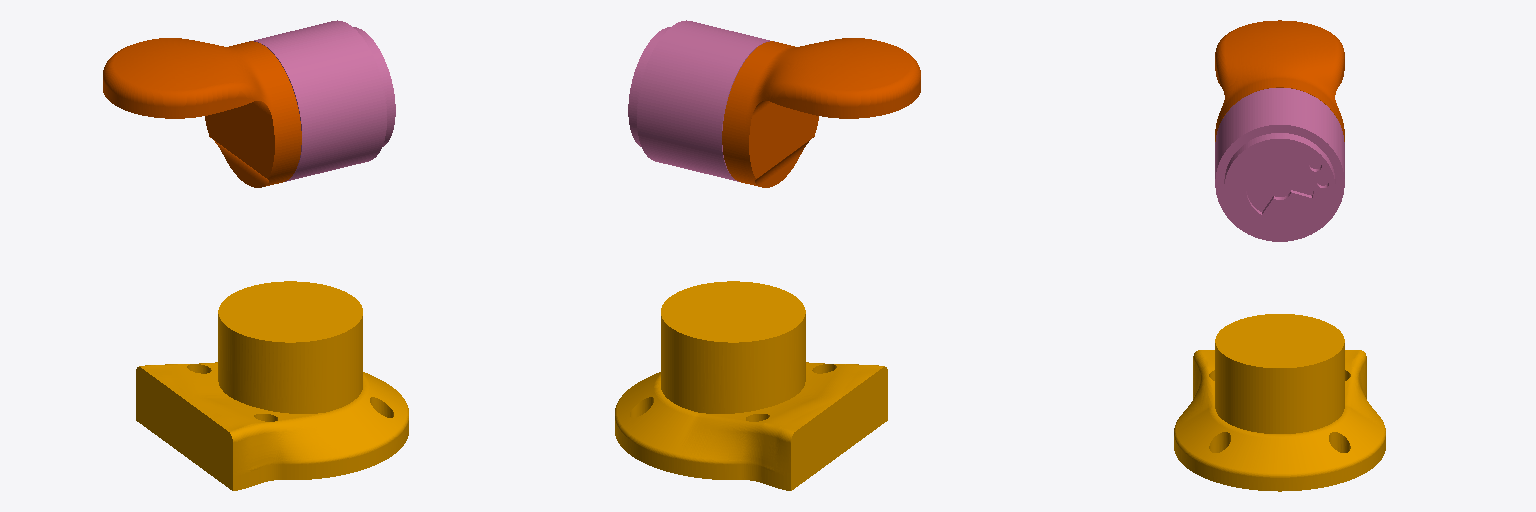
The robot description file, URDF, robot "z1":
<?xml version="1.0" encoding="UTF-8"?>
<robot name="z1">
  <joint name="joint1" type="revolute">
    <origin xyz="0. 0. 0.0585" rpy="0. -1.5707964 0. "/>
    <parent link="link00"/>
    <child link="link01"/>
    <axis xyz="1. 0. 0."/>
    <limit lower="-2.6179936" upper="2.6179936" effort="30." velocity="3.1415"/>
  </joint>
  <joint name="joint2" type="revolute">
    <origin xyz="0.045 0. 0. " rpy="1.5707964 0. 1.5707964"/>
    <parent link="link01"/>
    <child link="link02"/>
    <axis xyz="1. 0. 0."/>
    <limit lower="0." upper="2.9670595" effort="60." velocity="3.1415"/>
  </joint>
  <joint name="joint3" type="revolute">
    <origin xyz="0. 0.35 0. " rpy="0. 0. 0."/>
    <parent link="link02"/>
    <child link="link03"/>
    <axis xyz="1. 0. 0."/>
    <limit lower="-2.879793" upper="0." effort="30." velocity="3.1415"/>
  </joint>
  <joint name="joint4" type="revolute">
    <origin xyz="0. -0.218 0.057" rpy="0. 0. 0."/>
    <parent link="link03"/>
    <child link="link04"/>
    <axis xyz="1. 0. 0."/>
    <limit lower="-1.5184363" upper="1.5184363" effort="30." velocity="3.1415"/>
  </joint>
  <joint name="joint5" type="revolute">
    <origin xyz="0. -0.07 0. " rpy="-1.5707964 -1.5707964 0. "/>
    <parent link="link04"/>
    <child link="link05"/>
    <axis xyz="1. 0. 0."/>
    <limit lower="-1.3439035" upper="1.3439035" effort="30." velocity="3.1415"/>
  </joint>
  <joint name="joint6" type="revolute">
    <origin xyz="0. 0. -0.0492" rpy="0. 1.5707964 0. "/>
    <parent link="link05"/>
    <child link="link06"/>
    <axis xyz="1. 0. 0."/>
    <limit lower="-2.7925265" upper="2.7925265" effort="30." velocity="3.1415"/>
  </joint>
  <joint name="root_joint" type="fixed">
    <origin xyz="0. 0. 0." rpy="0. 0. 0."/>
    <parent link="z1_description"/>
    <child link="link00"/>
  </joint>
  <link name="link00">
    <inertial>
      <origin xyz="-0.0033498 -0.0001362 0.0249584" rpy="0. 0. 0."/>
      <mass value="0.4724748"/>
      <inertia ixx="0.0003794" ixy="-0.0000004" ixz="-0.0000104" iyy="0.0004152" iyz="-0.000001" izz="0.0005307"/>
    </inertial>
    <visual>
      <origin xyz="0. 0. 0." rpy="0. 0. 0."/>
      <geometry>
        <mesh filename="meshes/link00_visuals_mesh_0.obj" scale="1. 1. 1."/>
      </geometry>
    </visual>
    <collision>
      <origin xyz="0. 0. 0.0255" rpy="0. 0. 0."/>
      <geometry>
        <cylinder radius="0.0325" length="0.051"/>
      </geometry>
    </collision>
  </link>
  <link name="link01">
    <inertial>
      <origin xyz="0.0000025 -0.000252 0.0231717" rpy="0. 0. 0."/>
      <mass value="0.6733255"/>
      <inertia ixx="0.0012833" ixy="-0.0000001" ixz="-0.0000004" iyy="0.0007193" iyz="0.0000005" izz="0.0008394"/>
    </inertial>
    <visual>
      <origin xyz="0. 0. 0." rpy="0. 1.5707964 0. "/>
      <geometry>
        <mesh filename="meshes/link01_visuals_mesh_0.obj" scale="1. 1. 1."/>
      </geometry>
    </visual>
  </link>
  <link name="link02">
    <inertial>
      <origin xyz="-0.110126 0.0024003 0.0015827" rpy="0. 0. 0."/>
      <mass value="1.1913226"/>
      <inertia ixx="0.0010214" ixy="0.0006236" ixz="0.0000051" iyy="0.0242946" iyz="-0.0000021" izz="0.0246611"/>
    </inertial>
    <visual>
      <origin xyz="0. 0. 0." rpy="0. 0. -1.5707964"/>
      <geometry>
        <mesh filename="meshes/link02_visuals_mesh_0.obj" scale="1. 1. 1."/>
      </geometry>
    </visual>
    <collision>
      <origin xyz="0. 0. 0." rpy="1.5707964 0. -1.5707964"/>
      <geometry>
        <cylinder radius="0.0325" length="0.102"/>
      </geometry>
    </collision>
    <collision>
      <origin xyz="0. 0.1625 0. " rpy="1.5707964 1.5707963 0. "/>
      <geometry>
        <cylinder radius="0.0225" length="0.235"/>
      </geometry>
    </collision>
    <collision>
      <origin xyz="0. 0.35 0. " rpy="1.5707964 0. -1.5707964"/>
      <geometry>
        <cylinder radius="0.0325" length="0.051"/>
      </geometry>
    </collision>
  </link>
  <link name="link03">
    <inertial>
      <origin xyz="0.1060921 -0.0054182 0.0347638" rpy="0. 0. 0."/>
      <mass value="0.8394088"/>
      <inertia ixx="0.0010806" ixy="-0.0000867" ixz="-0.002081" iyy="0.0095424" iyz="-0.0000133" izz="0.0088662"/>
    </inertial>
    <visual>
      <origin xyz="0. 0. 0." rpy="0. 0. -1.5707964"/>
      <geometry>
        <mesh filename="meshes/link03_visuals_mesh_0.obj" scale="1. 1. 1."/>
      </geometry>
    </visual>
    <collision>
      <origin xyz="0. -0.128 0.055" rpy="1.5707964 1.5707963 0. "/>
      <geometry>
        <cylinder radius="0.02" length="0.116"/>
      </geometry>
    </collision>
    <collision>
      <origin xyz="0. -0.2205 0.055 " rpy="-0. 1.5707963 0. "/>
      <geometry>
        <cylinder radius="0.0325" length="0.059"/>
      </geometry>
    </collision>
  </link>
  <link name="link04">
    <inertial>
      <origin xyz="0.0436668 0.0036474 -0.0017019" rpy="0. 0. 0."/>
      <mass value="0.5640456"/>
      <inertia ixx="0.0003158" ixy="0.0000813" ixz="0.0000409" iyy="0.00093" iyz="-0.000006" izz="0.0009791"/>
    </inertial>
    <visual>
      <origin xyz="0. 0. 0." rpy="0. 0. -1.5707964"/>
      <geometry>
        <mesh filename="meshes/link04_visuals_mesh_0.obj" scale="1. 1. 1."/>
      </geometry>
    </visual>
  </link>
  <link name="link05">
    <inertial>
      <origin xyz="0.0312153 0. 0.0064632" rpy="0. 0. 0."/>
      <mass value="0.3893849"/>
      <inertia ixx="0.0001761" ixy="0.0000004" ixz="0.0000569" iyy="0.000559" iyz="-0.0000001" izz="0.0005386"/>
    </inertial>
    <visual>
      <origin xyz="0. 0. 0." rpy="0. 1.5707964 0. "/>
      <geometry>
        <mesh filename="meshes/link05_visuals_mesh_0.obj" scale="1. 1. 1."/>
      </geometry>
    </visual>
  </link>
  <link name="link06">
    <inertial>
      <origin xyz="0.0241569 -0.0001735 -0.0014388" rpy="0. 0. 0."/>
      <mass value="0.2887581"/>
      <inertia ixx="0.0001833" ixy="0.0000012" ixz="0.0000005" iyy="0.0001475" iyz="0.0000001" izz="0.0001468"/>
    </inertial>
    <visual>
      <origin xyz="0. 0. 0." rpy="0. 0. 0."/>
      <geometry>
        <mesh filename="meshes/link06_visuals_mesh_0.obj" scale="1. 1. 1."/>
      </geometry>
    </visual>
    <collision>
      <origin xyz="0.0255 0. 0. " rpy="0. 1.5707963 0. "/>
      <geometry>
        <cylinder radius="0.0325" length="0.051"/>
      </geometry>
    </collision>
  </link>
  <link name="z1_description"/>
</robot>

--- What the picture shows (computed from the rendered views, not written in the file) ---
Views: 3 orthographic renders of the robot side by side, from view 1: azimuth 30°, elevation 25°; view 2: azimuth 150°, elevation 25°; view 3: azimuth 270°, elevation 25°.
Model z1 with 8 links and 7 joints (6 revolute, 1 fixed), rooted at z1_description, posed all joints at 0.
Links seen in each view (by area): view 1: link00, link05, link06; view 2: link00, link05, link06; view 3: link00, link06, link05.
Boxes of the visible links, x1,y1,x2,y2 form: link00: [136, 281, 408, 490]; link05: [103, 38, 301, 187]; link06: [249, 20, 395, 181]; link00: [615, 281, 887, 490]; link05: [722, 38, 920, 187]; link06: [628, 20, 774, 181]; link00: [1174, 314, 1385, 491]; link06: [1215, 88, 1344, 241]; link05: [1215, 20, 1344, 141].
Bounding box of the posed robot: 0.1457 × 0.1065 × 0.198 m (x, y, z).
Meshes: 7 distinct files referenced, 3 mesh visuals loaded (3 OBJ); not drawn: 4 (reference not matched to a file when rendering).